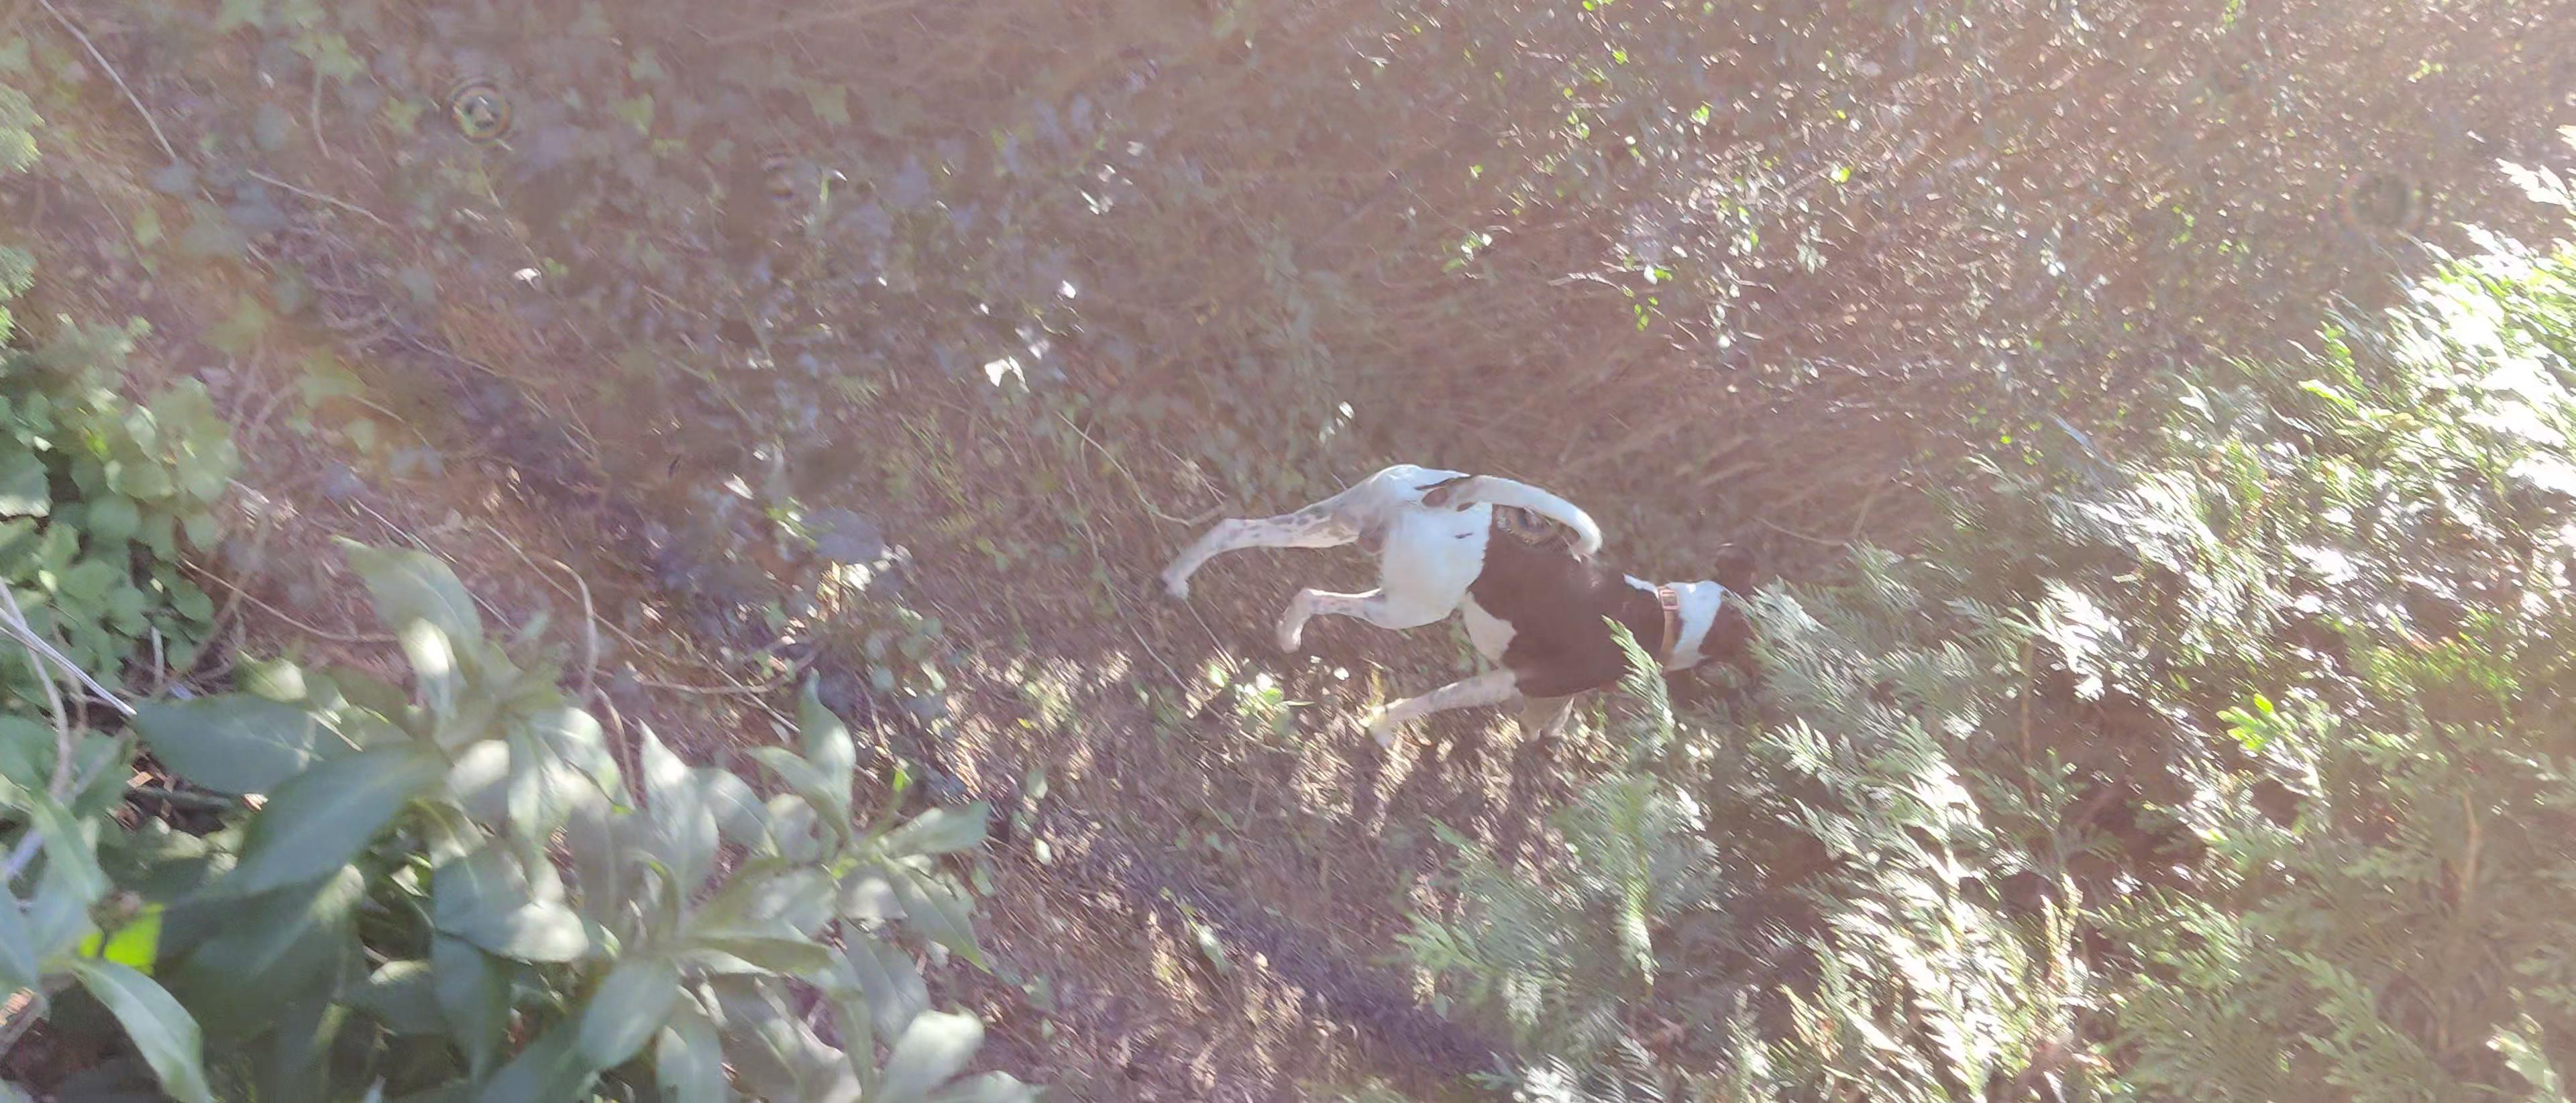Dog: (1148, 460, 1768, 746)
